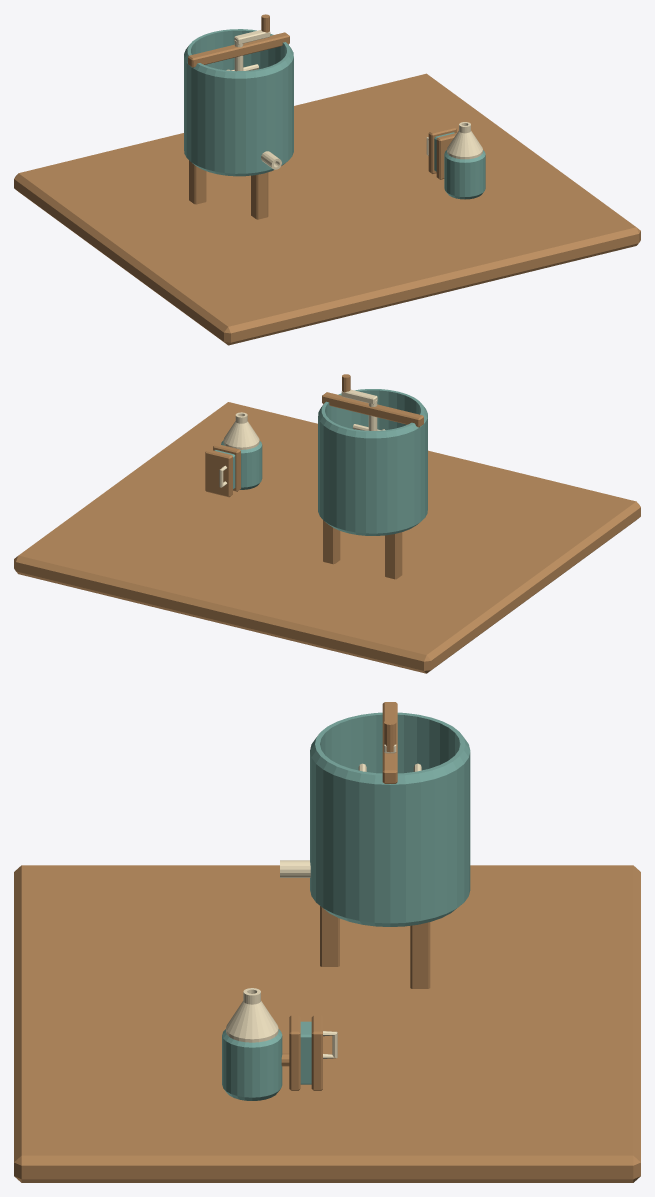
3 renders of one model, top to bottom at view 1: azimuth 30°, elevation 25°; view 2: azimuth 150°, elevation 25°; view 3: azimuth 270°, elevation 25°, orthographic. The views are drawn at different scales.
Parts seen in each view (by area): view 1: beekeeping-work-corner-scene-01; view 2: beekeeping-work-corner-scene-01; view 3: beekeeping-work-corner-scene-01.
Part boxes in pixels (<box>): beekeeping-work-corner-scene-01: <box>14,14,640,345</box>; beekeeping-work-corner-scene-01: <box>14,374,640,673</box>; beekeeping-work-corner-scene-01: <box>14,702,640,1182</box>.
Bounding box in the file's own units: 2.8 × 1.26 × 2.5.
